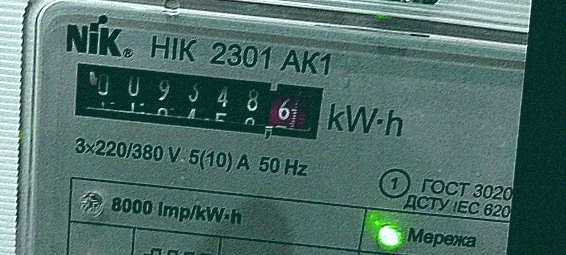0: (92, 69, 111, 97), (123, 69, 140, 97)
3: (184, 76, 201, 103)
4: (211, 77, 232, 109)
6: (273, 91, 293, 122)
8: (243, 83, 260, 113)
9: (154, 75, 171, 104)
screen: (52, 46, 337, 151)
